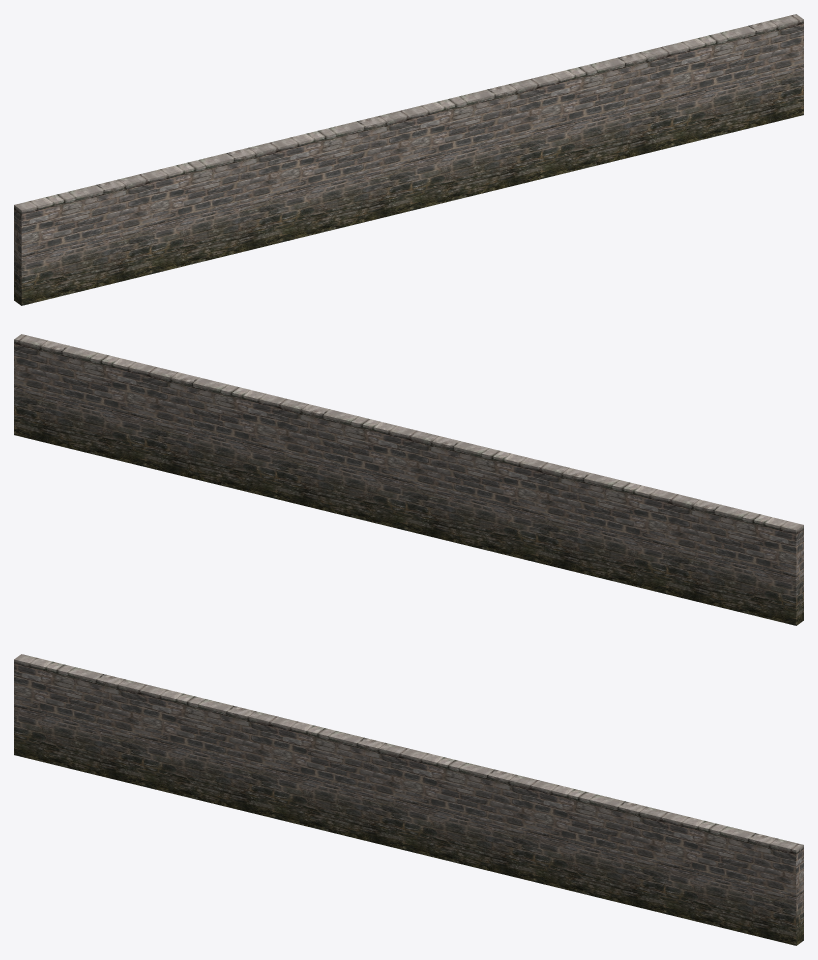
File: LowWallStone_60.fbx
The picture shows the model from 3 angles, top to bottom: view 1: azimuth 30°, elevation 25°; view 2: azimuth 150°, elevation 25°; view 3: azimuth 330°, elevation 25°; orthographic projection.
Visible parts, largest first — view 1: LowWall_high_LowWallMesh2; view 2: LowWall_high_LowWallMesh2; view 3: LowWall_high_LowWallMesh2.
Boxes of the visible parts, <box> form: LowWall_high_LowWallMesh2: <box>14,14,803,305</box>; LowWall_high_LowWallMesh2: <box>14,334,803,625</box>; LowWall_high_LowWallMesh2: <box>14,654,803,945</box>.
Bounding box in the file's own units: 6000 × 700 × 100.
Materials: 1 (1 with a texture image).
